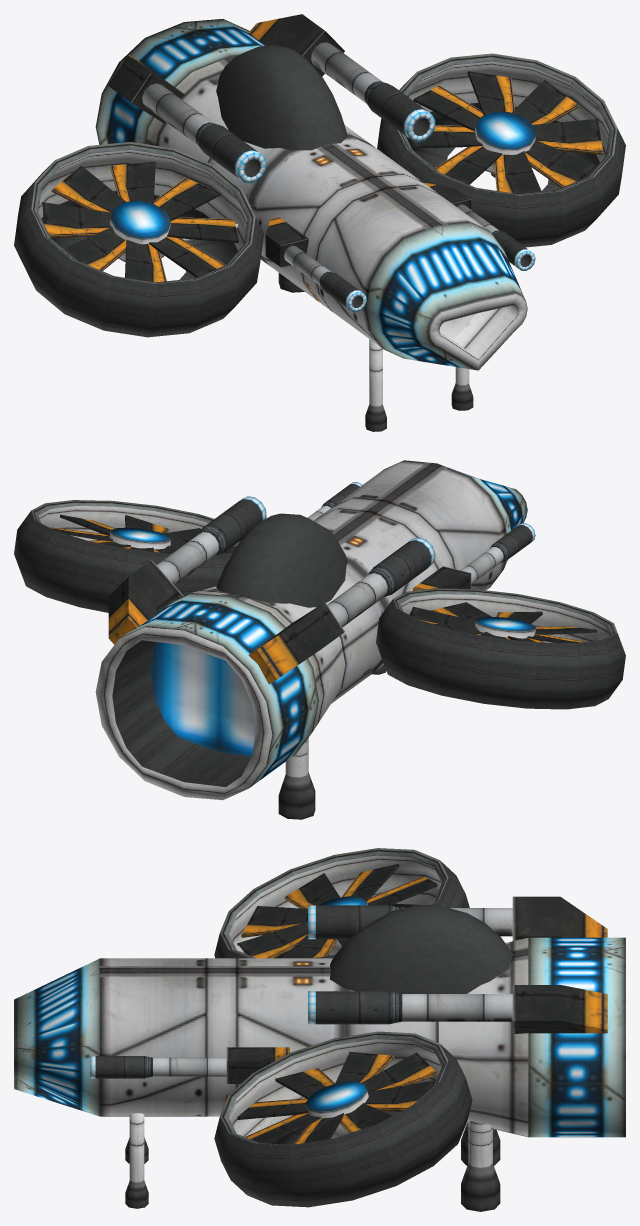
File: nave1.fbx
3 renders of one model, top to bottom at view 1: azimuth 30°, elevation 25°; view 2: azimuth 150°, elevation 25°; view 3: azimuth 270°, elevation 25°, orthographic. The views are drawn at different scales.
Visible parts, largest first — view 1: Cylinder, Cylinder.001; view 2: Cylinder, Cylinder.001; view 3: Cylinder, Cylinder.001.
Part boxes in pixels (x1,y1,x2,y2): Cylinder: [14, 14, 625, 431]; Cylinder.001: [41, 71, 603, 282]; Cylinder: [14, 460, 625, 819]; Cylinder.001: [48, 514, 596, 643]; Cylinder: [14, 848, 625, 1211]; Cylinder.001: [237, 864, 437, 1144].
Bounding box in the file's own units: 5.24 × 2.26 × 4.62.
